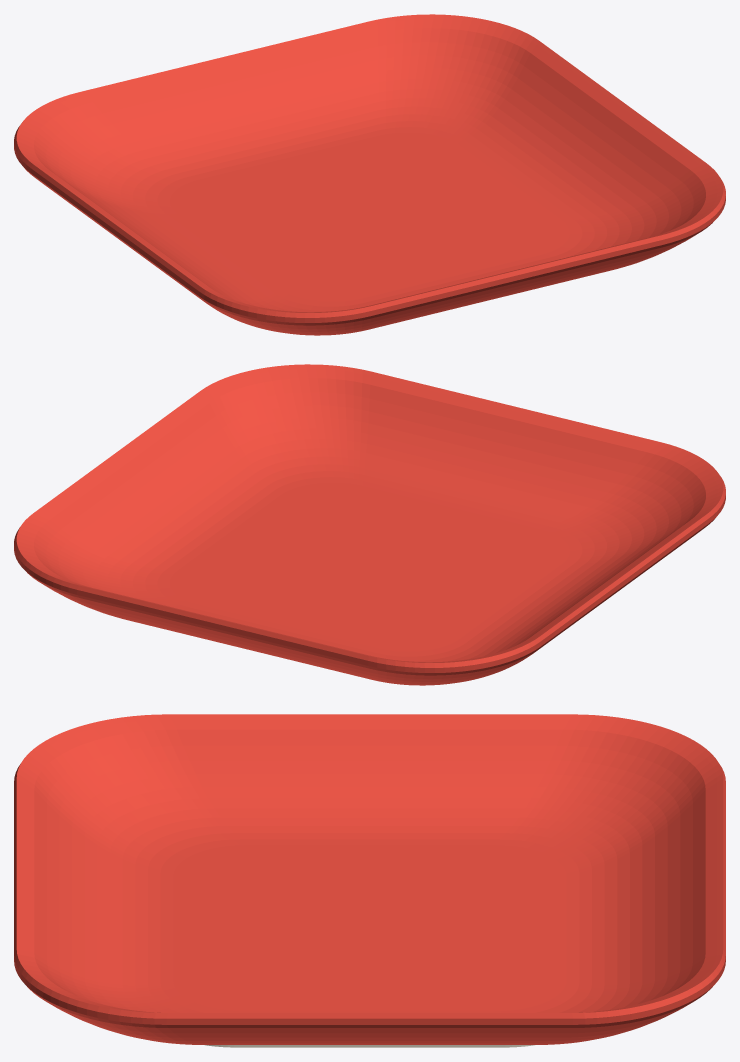
Rendered from red-plate.glb.
The picture shows the model from 3 angles, top to bottom: view 1: azimuth 30°, elevation 25°; view 2: azimuth 150°, elevation 25°; view 3: azimuth 270°, elevation 25°; orthographic projection. The views are drawn at different scales.
Parts seen in each view (by area): view 1: plate_body; view 2: plate_body; view 3: plate_body, plate_foot.
Part boxes in pixels (bbox=[...]): plate_body: bbox=[14, 14, 725, 335]; plate_body: bbox=[14, 364, 725, 685]; plate_body: bbox=[14, 714, 725, 1044]; plate_foot: bbox=[205, 1045, 534, 1047].
Bounding box in the file's own units: 0.21 × 0.03 × 0.21.
